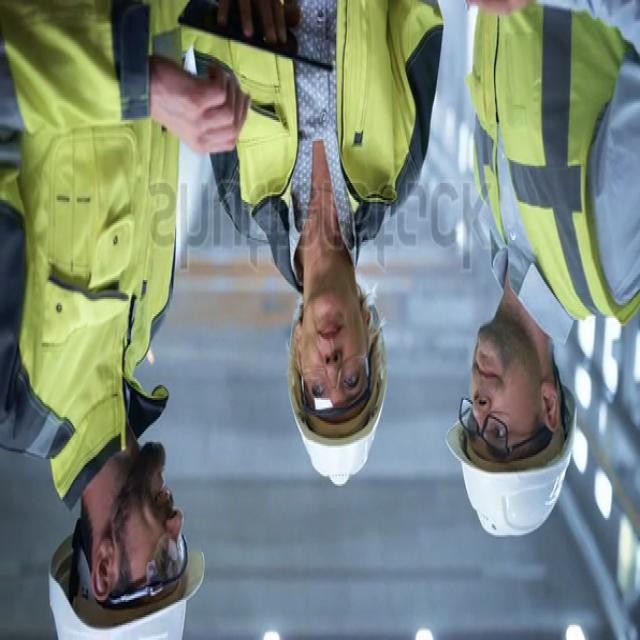goggles: (107, 526, 189, 608), (458, 389, 552, 458), (301, 346, 373, 416)
